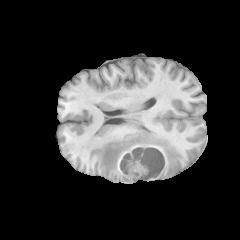glioma: (97, 129, 181, 181)
